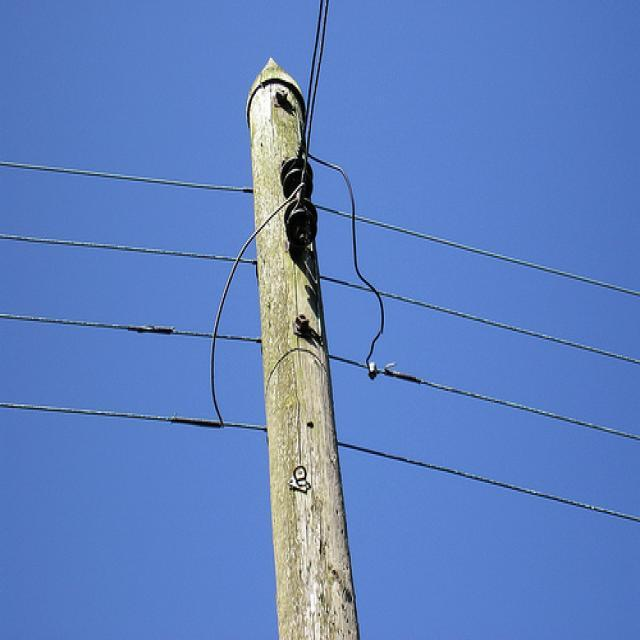pole: (244, 61, 360, 640)
wire: (0, 157, 639, 303), (0, 234, 640, 369), (0, 312, 640, 444), (0, 399, 640, 527), (307, 1, 330, 148), (308, 0, 325, 110)
